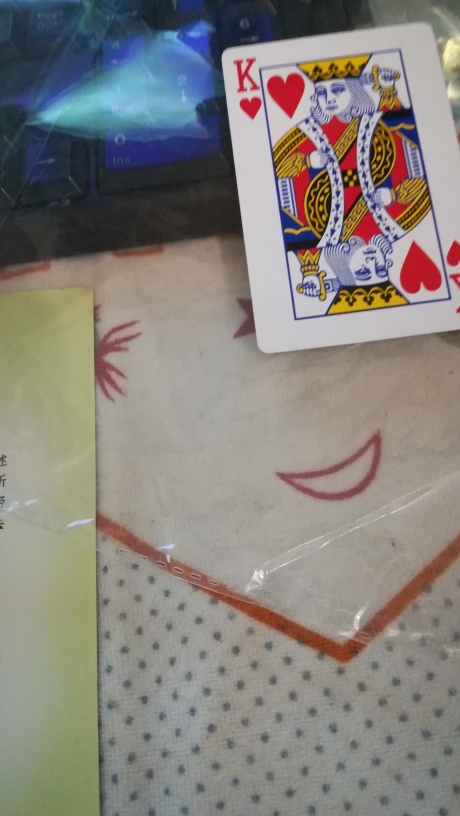hx k: (227, 11, 460, 348)
